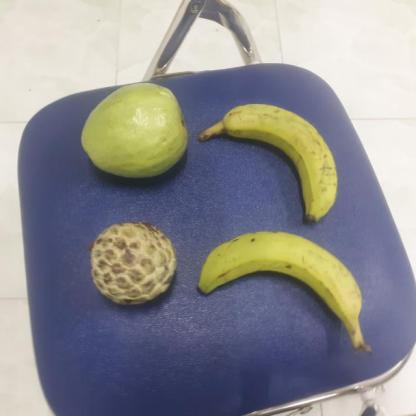annona: (85, 221, 177, 304)
banana: (191, 230, 361, 337), (193, 106, 341, 222)
guava: (77, 81, 188, 178)
